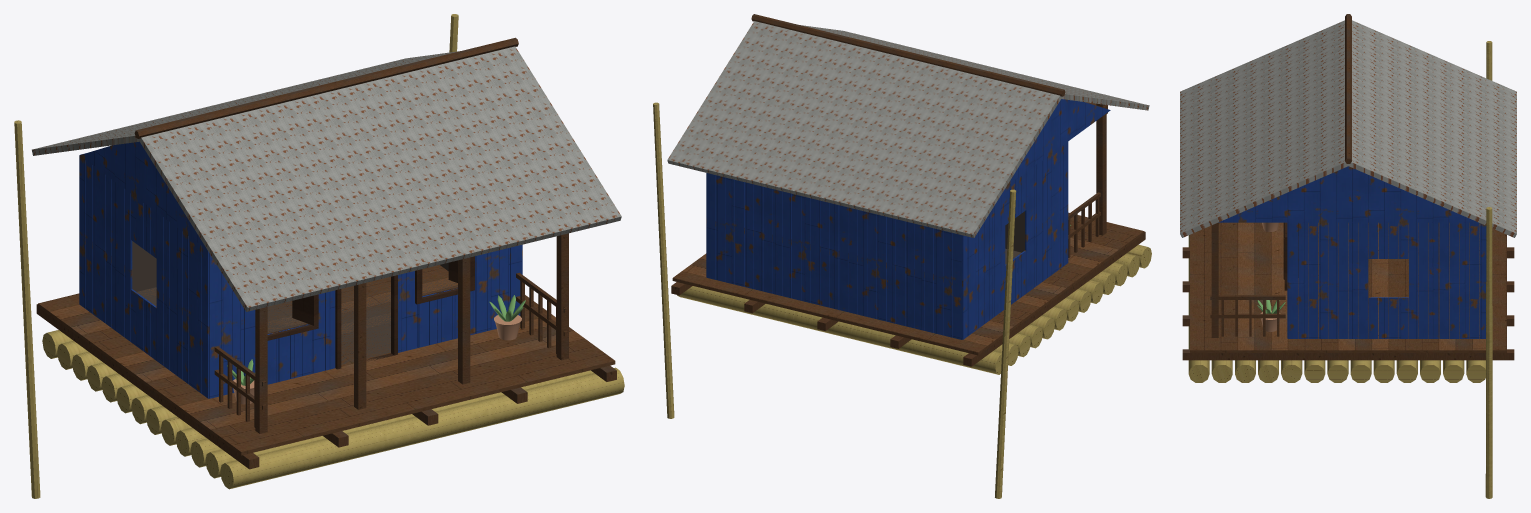
Rendered from rakit_a.glb.
3 views of the same model, side by side, from view 1: azimuth 30°, elevation 25°; view 2: azimuth 150°, elevation 25°; view 3: azimuth 270°, elevation 25° (orthographic). The views are drawn at different scales.
Visible parts, largest first — view 1: rakit_a_seng, rakit_a_cat_biru, rakit_a_kayu_papan, rakit_a_bambu, rakit_a_kayu_balok, rakit_a_ruang_gelap, rakit_a_kayu_tua, rakit_a_tanah_liat; view 2: rakit_a_seng, rakit_a_cat_biru, rakit_a_bambu, rakit_a_kayu_papan, rakit_a_kayu_balok, rakit_a_ruang_gelap; view 3: rakit_a_seng, rakit_a_cat_biru, rakit_a_kayu_papan, rakit_a_bambu, rakit_a_kayu_balok, rakit_a_kayu_tua.
Boxes of the visible parts, x1,y1,x2,y2 form: rakit_a_seng: (32,46,621,311); rakit_a_cat_biru: (79,141,522,398); rakit_a_kayu_papan: (38,265,615,455); rakit_a_bambu: (14,14,624,498); rakit_a_kayu_balok: (36,37,616,469); rakit_a_ruang_gelap: (132,241,457,364); rakit_a_kayu_tua: (267,256,474,369); rakit_a_tanah_liat: (233,315,521,404); rakit_a_seng: (667,21,1149,237); rakit_a_cat_biru: (706,99,1110,339); rakit_a_bambu: (653,102,1151,498); rakit_a_kayu_papan: (672,212,1144,355); rakit_a_kayu_balok: (671,14,1145,366); rakit_a_ruang_gelap: (1005,211,1024,264); rakit_a_seng: (1180,20,1516,237); rakit_a_cat_biru: (1218,166,1486,338); rakit_a_kayu_papan: (1190,222,1506,352); rakit_a_bambu: (1188,41,1492,498); rakit_a_kayu_balok: (1182,14,1514,360); rakit_a_kayu_tua: (1283,222,1298,290).
Size of the model in its own units: 7.94 by 7.35 by 6.7.
Materials: 9 (6 with a texture image).
